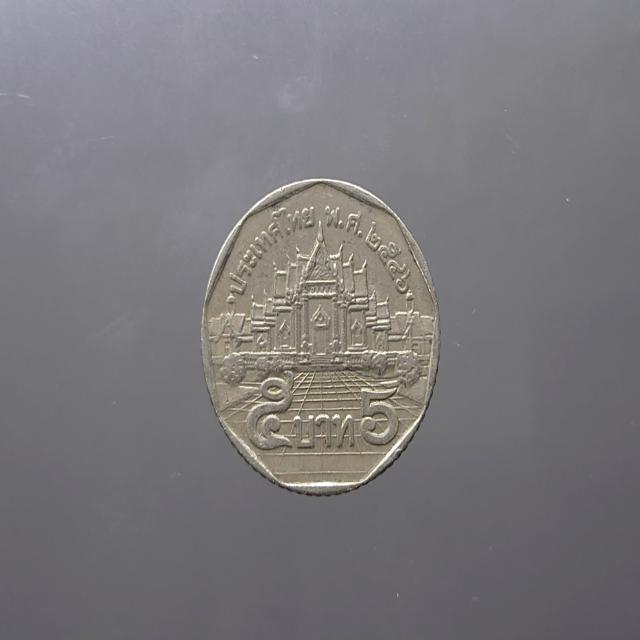5 Bath: (199, 172, 446, 497)
